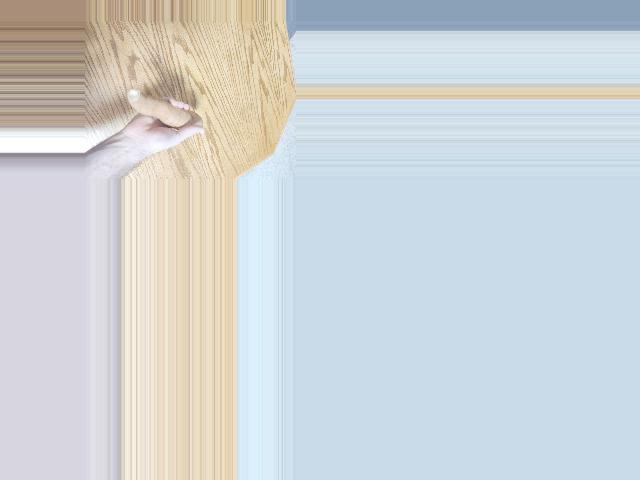sweet_potato: (123, 90, 201, 131)
